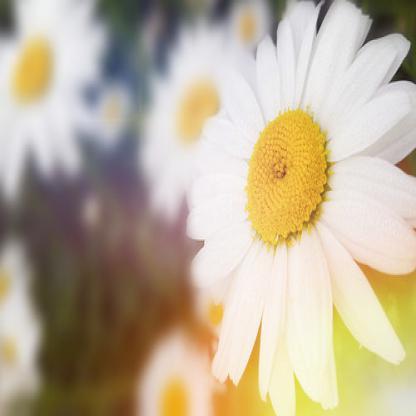ASTER: (127, 10, 415, 407)
